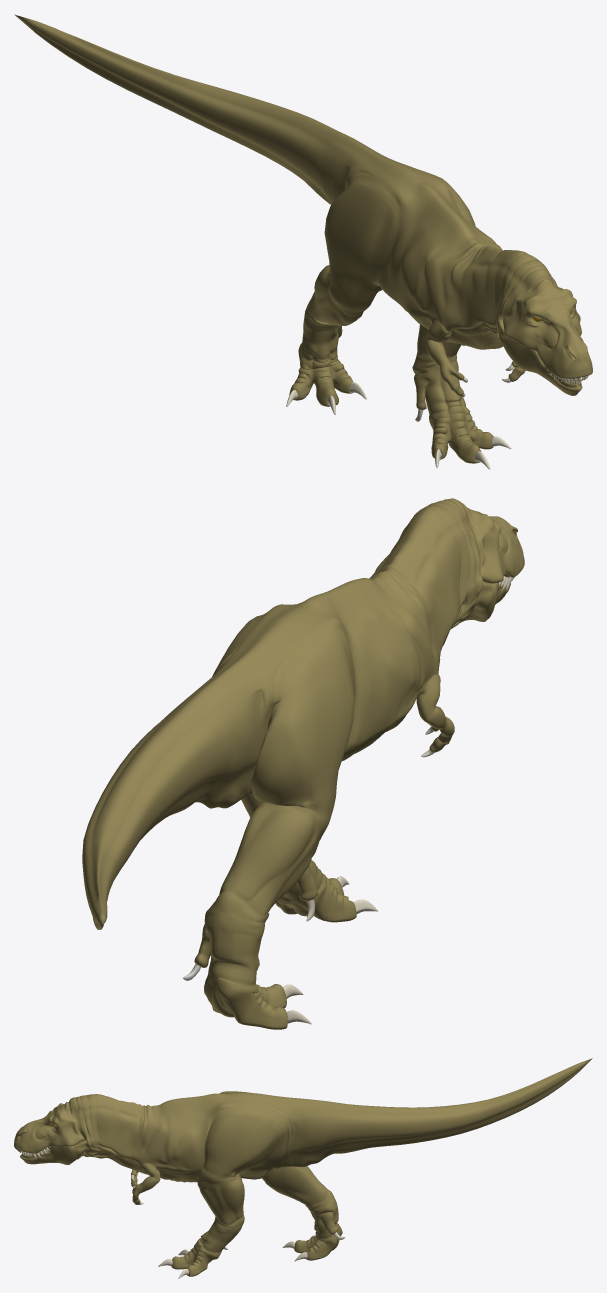
The model's file is basictrex.gltf.
The picture shows the model from 3 angles, top to bottom: view 1: azimuth 30°, elevation 25°; view 2: azimuth 150°, elevation 25°; view 3: azimuth 270°, elevation 25°; orthographic projection. The views are drawn at different scales.
Parts seen in each view (by area): view 1: Skin, claws1; view 2: Skin, claws1; view 3: Skin, claws1.
Part boxes in pixels (x1,y1,x2,y2): Skin: [14, 14, 592, 463]; claws1: [286, 364, 513, 469]; Skin: [82, 498, 524, 1029]; claws1: [183, 726, 434, 1024]; Skin: [14, 1058, 592, 1276]; claws1: [131, 1175, 345, 1278].
Size of the model in its own units: 0.0609 by 0.0826 by 0.256.
